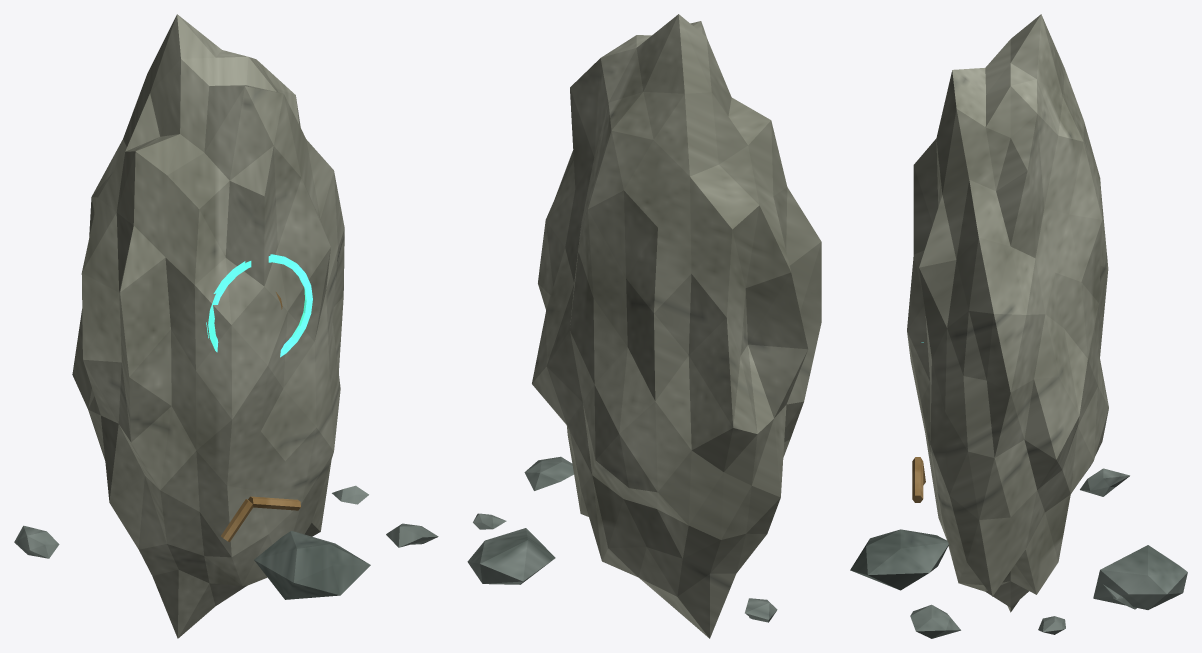
Rendered from 0656_waystone_06.glb.
3 renders of one model, left to right at view 1: azimuth 30°, elevation 25°; view 2: azimuth 150°, elevation 25°; view 3: azimuth 270°, elevation 25°, orthographic. The views are drawn at different scales.
Visible parts, largest first — view 1: stone_light, stone, glow, brass; view 2: stone_light, stone; view 3: stone_light, stone, brass.
Boxes of the visible parts, x1=… form: stone_light: x1=72, y1=14, x2=344, y2=638; stone: x1=14, y1=485, x2=438, y2=599; glow: x1=206, y1=254, x2=312, y2=357; brass: x1=221, y1=292, x2=300, y2=541; stone_light: x1=532, y1=14, x2=821, y2=638; stone: x1=467, y1=456, x2=777, y2=622; stone_light: x1=907, y1=14, x2=1108, y2=612; stone: x1=850, y1=468, x2=1187, y2=638; brass: x1=912, y1=457, x2=925, y2=502.
Bounding box in the file's own units: 1.36 × 2.45 × 1.24.
4 materials, 4 textured.
